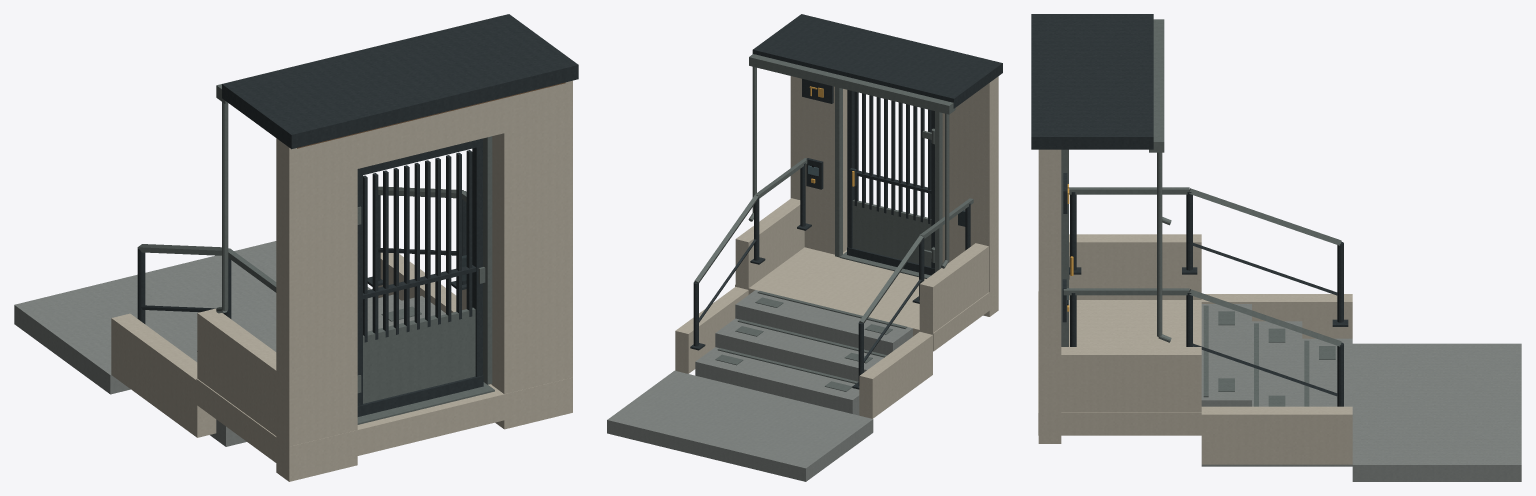
The picture shows the model from 3 angles, left to right: view 1: azimuth 30°, elevation 25°; view 2: azimuth 150°, elevation 25°; view 3: azimuth 270°, elevation 25°; orthographic projection. The views are drawn at different scales.
Visible parts, largest first — view 1: VIS_Facade_Masonry_limestone, VIS_Canopy_Roof_iron, VIS_Sidewalk_Approach_concrete, VIS_Top_Landing_limestone, VIS_Gate_Pickets_iron, VIS_Facade_Lintel_limestone, VIS_Stoop_Retaining_Cheek_limestone, VIS_Gate_Kick_Plate_iron_light, VIS_Landing_Parapet_limestone, VIS_Gate_Perimeter_iron, VIS_Stoop_Steps_concrete, VIS_Gate_Frame_iron_light (+6 smaller); view 2: VIS_Sidewalk_Approach_concrete, VIS_Facade_Masonry_limestone, VIS_Stoop_Steps_concrete, VIS_Canopy_Roof_iron, VIS_Top_Landing_limestone, VIS_Landing_Parapet_limestone, VIS_Stoop_Retaining_Cheek_limestone, VIS_Gate_Pickets_iron, VIS_Gate_Kick_Plate_iron_light, VIS_Gutter_iron_light, VIS_Gate_Frame_iron_light, VIS_Gate_Perimeter_iron (+10 smaller); view 3: VIS_Sidewalk_Approach_concrete, VIS_Canopy_Roof_iron, VIS_Landing_Parapet_limestone, VIS_Stoop_Retaining_Cheek_limestone, VIS_Stoop_Steps_concrete, VIS_Top_Landing_limestone, VIS_Facade_Masonry_limestone, VIS_Rail_Post_iron, VIS_Handrail_Sloped_iron_light, VIS_Handrail_Landing_iron_light, VIS_Gutter_iron_light, VIS_Nosing_Contrast_iron_light (+5 smaller).
Part boxes in pixels (box(x1,y1,x2,y2)): VIS_Facade_Masonry_limestone: box(276, 81, 572, 481); VIS_Canopy_Roof_iron: box(222, 14, 578, 149); VIS_Sidewalk_Approach_concrete: box(14, 241, 372, 394); VIS_Top_Landing_limestone: box(196, 377, 572, 472); VIS_Gate_Pickets_iron: box(363, 150, 472, 342); VIS_Facade_Lintel_limestone: box(276, 80, 572, 185); VIS_Stoop_Retaining_Cheek_limestone: box(111, 252, 456, 437); VIS_Gate_Kick_Plate_iron_light: box(363, 307, 475, 403); VIS_Landing_Parapet_limestone: box(197, 289, 466, 435); VIS_Gate_Perimeter_iron: box(357, 138, 483, 416); VIS_Stoop_Steps_concrete: box(169, 294, 445, 446); VIS_Gate_Frame_iron_light: box(483, 136, 492, 384); VIS_Sidewalk_Approach_concrete: box(607, 370, 873, 481); VIS_Facade_Masonry_limestone: box(790, 76, 998, 316); VIS_Stoop_Steps_concrete: box(695, 290, 912, 415); VIS_Canopy_Roof_iron: box(752, 14, 1002, 108); VIS_Top_Landing_limestone: box(735, 247, 998, 351); VIS_Landing_Parapet_limestone: box(735, 198, 988, 334); VIS_Stoop_Retaining_Cheek_limestone: box(675, 287, 932, 418); VIS_Gate_Pickets_iron: box(854, 91, 931, 223); VIS_Gate_Kick_Plate_iron_light: box(852, 199, 931, 266); VIS_Gutter_iron_light: box(749, 54, 955, 114); VIS_Gate_Frame_iron_light: box(835, 87, 942, 272); VIS_Gate_Perimeter_iron: box(847, 90, 934, 275); VIS_Sidewalk_Approach_concrete: box(1352, 343, 1521, 481); VIS_Canopy_Roof_iron: box(1031, 14, 1153, 149); VIS_Landing_Parapet_limestone: box(1061, 234, 1201, 412); VIS_Stoop_Retaining_Cheek_limestone: box(1201, 294, 1352, 464); VIS_Stoop_Steps_concrete: box(1201, 304, 1352, 466); VIS_Top_Landing_limestone: box(1038, 291, 1201, 435); VIS_Facade_Masonry_limestone: box(1038, 149, 1061, 443); VIS_Rail_Post_iron: box(1070, 192, 1343, 406); VIS_Handrail_Sloped_iron_light: box(1189, 188, 1341, 346); VIS_Handrail_Landing_iron_light: box(1063, 187, 1189, 295); VIS_Gutter_iron_light: box(1149, 19, 1164, 152); VIS_Nosing_Contrast_iron_light: box(1203, 305, 1309, 406).
Size of the model in its own units: 2.43 by 3.18 by 4.09.
9 materials, 9 textured.
